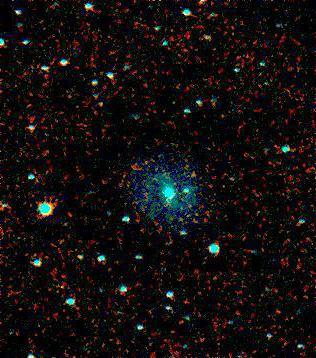star: (180, 163, 210, 193)
